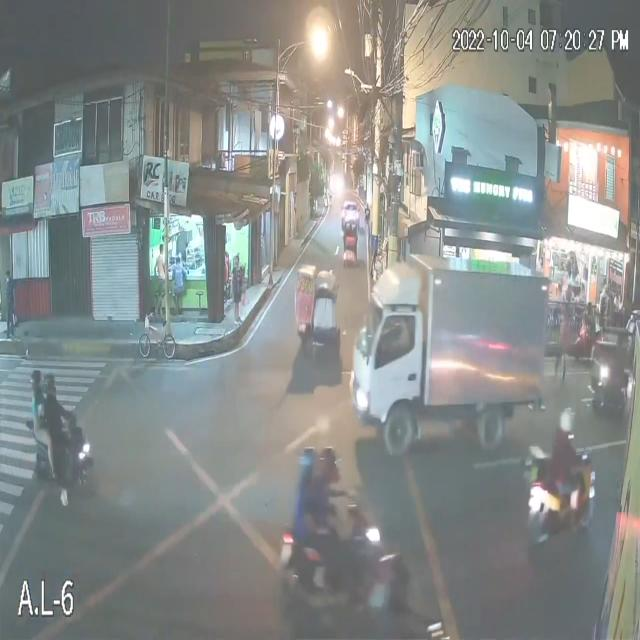Full-Faced: (316, 442, 342, 481), (557, 402, 579, 436), (301, 445, 315, 475), (42, 372, 58, 395), (30, 368, 44, 391)
